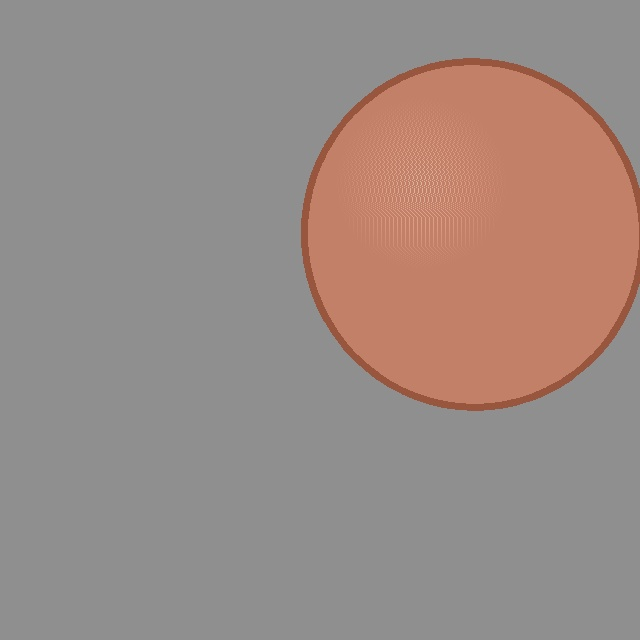lens: (304, 62, 640, 406)
